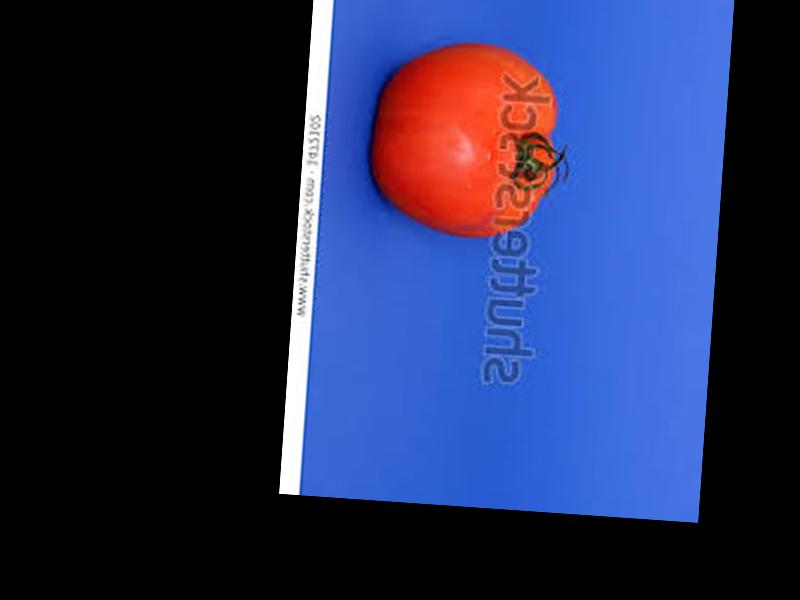Tomato: (368, 33, 565, 240)
